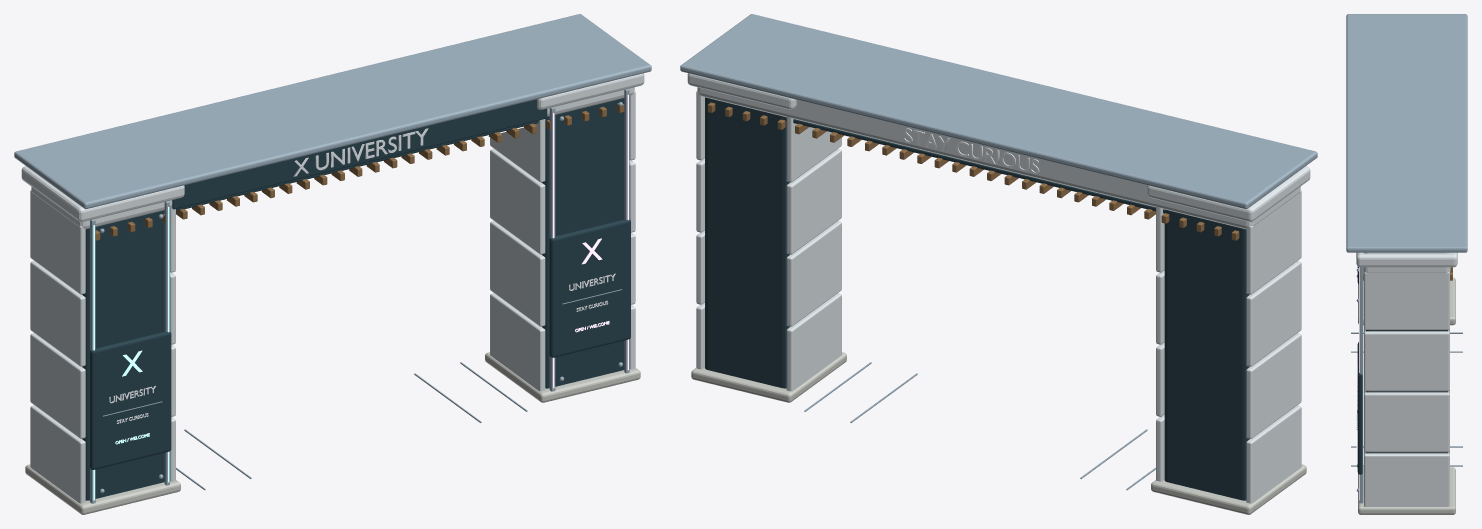
Rendered from gate-refined.glb.
3 renders of one model, left to right at view 1: azimuth 30°, elevation 25°; view 2: azimuth 150°, elevation 25°; view 3: azimuth 270°, elevation 25°, orthographic. The views are drawn at different scales.
Visible parts, largest first — view 1: Structure | midnight anodised, Aluminium | brushed edges, Porcelain | satin ceramic, Floor | warm limestone, Oak | reading furniture, Lettering | porcelain, Light | ice blue, Light | orchid; view 2: Porcelain | satin ceramic, Structure | midnight anodised, Aluminium | brushed edges, Floor | warm limestone, Oak | reading furniture, Lettering | porcelain; view 3: Aluminium | brushed edges, Porcelain | satin ceramic, Floor | warm limestone, Structure | midnight anodised, Light | orchid.
Part boxes in pixels (x1,y1,x2,y2): Structure | midnight anodised: (82, 98, 630, 500); Aluminium | brushed edges: (14, 14, 651, 503); Porcelain | satin ceramic: (21, 73, 644, 503); Floor | warm limestone: (25, 352, 640, 514); Oak | reading furniture: (95, 103, 624, 240); Lettering | porcelain: (109, 128, 615, 423); Light | ice blue: (93, 207, 169, 500); Light | orchid: (553, 95, 628, 388); Porcelain | satin ceramic: (687, 73, 1310, 503); Structure | midnight anodised: (705, 97, 1249, 500); Aluminium | brushed edges: (680, 14, 1317, 490); Floor | warm limestone: (691, 352, 1306, 514); Oak | reading furniture: (707, 102, 1239, 240); Lettering | porcelain: (904, 128, 1039, 174); Aluminium | brushed edges: (1346, 14, 1467, 503); Porcelain | satin ceramic: (1356, 252, 1457, 506); Floor | warm limestone: (1358, 277, 1455, 514); Structure | midnight anodised: (1357, 266, 1447, 474); Light | orchid: (1356, 267, 1359, 500).
Size of the model in its own units: 12.35 by 6.63 by 2.7.
